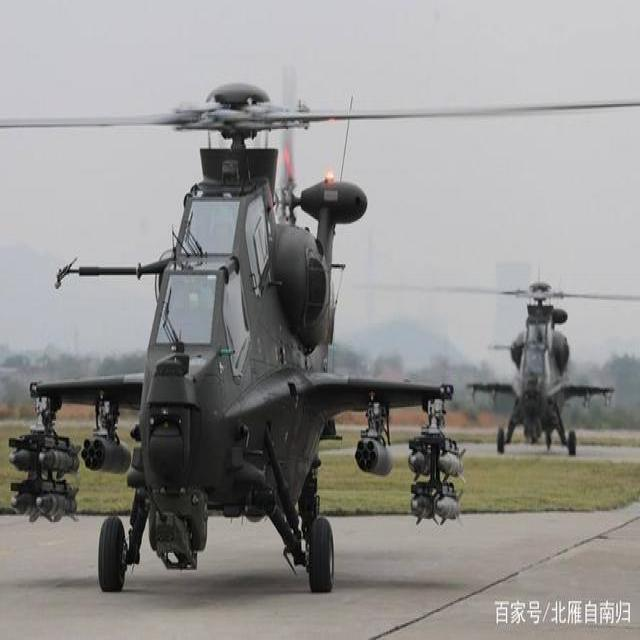MIL_HELO: (0, 66, 640, 591), (353, 253, 640, 458)
